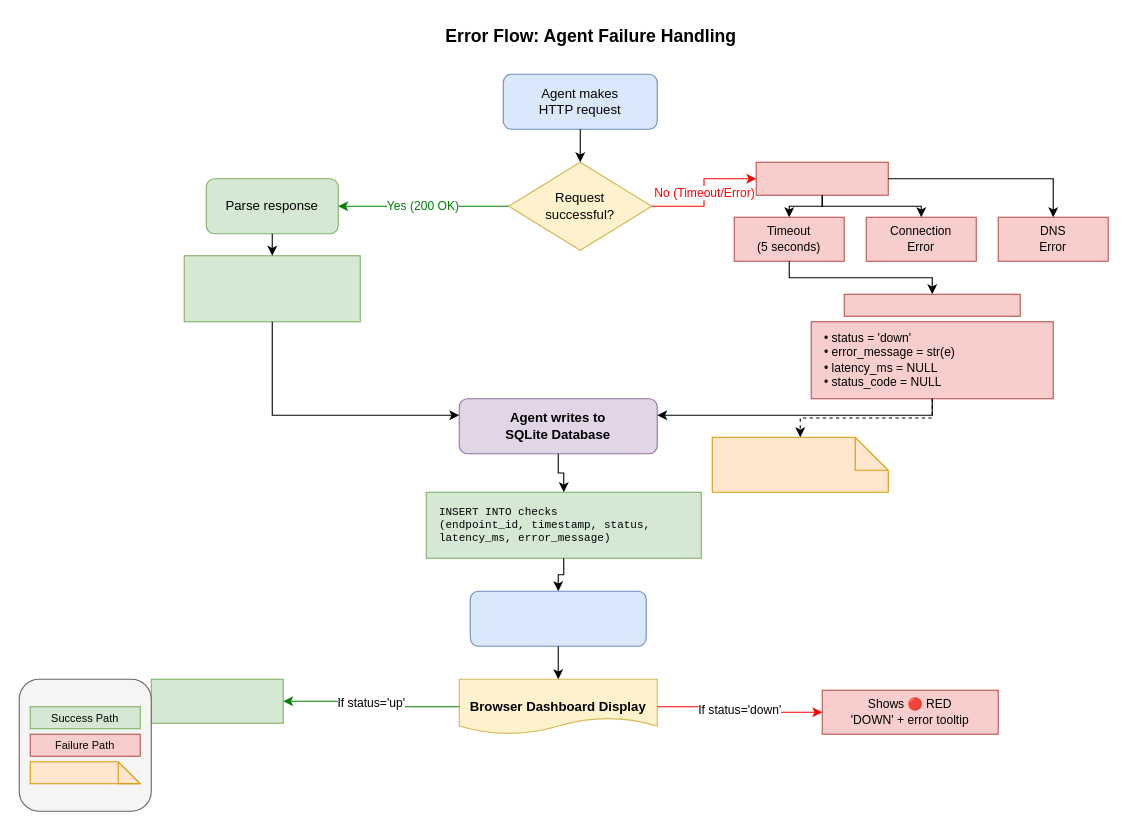
Image size: 1128x831. Some labels were removed from this diagram. The centre of each missing label's shape, as x and y in pixels:
"Agent records:" belongs at point (931, 304).
"Dashboard queries checks table" belongs at point (557, 618).
"Exception Types" belongs at point (821, 178).
"Note/Comment" belongs at point (84, 772).
"Shows 🟢 GREEN 'UP' status" belongs at point (216, 700).
"• status = 'up' • latency_ms = 145 • status_code = 200" belongs at point (271, 288).
"⚠️ ALWAYS writes to DB (even on failure)" belongs at point (799, 464).
